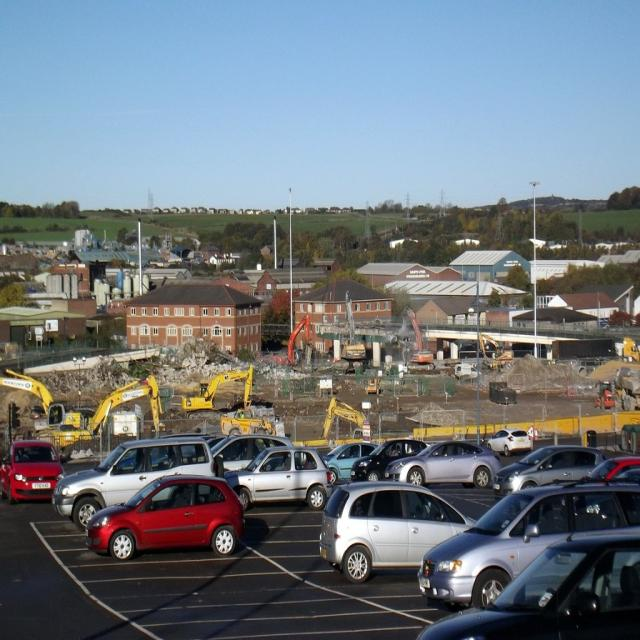car: (406, 467, 633, 623)
